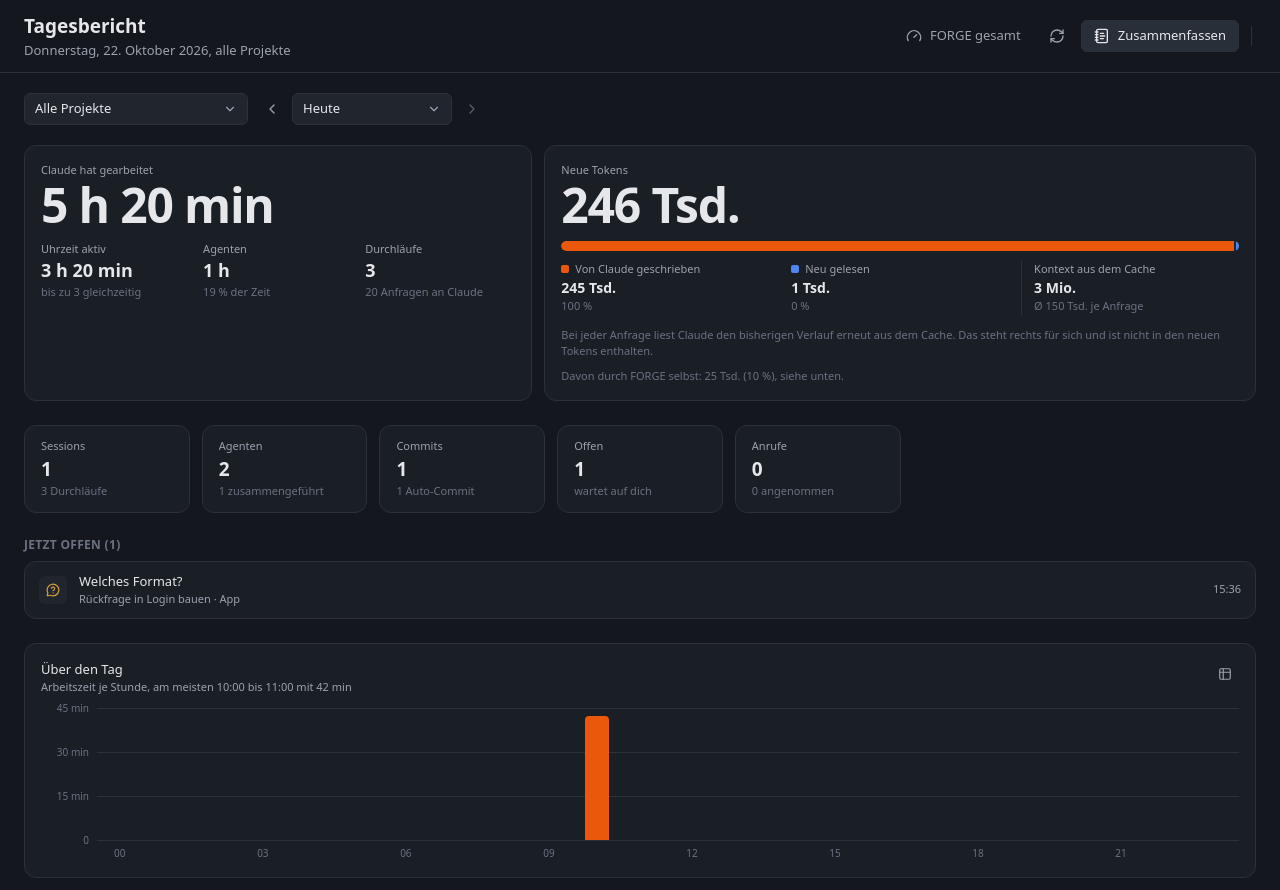
Test: daily report › writes a summary with Claude on request
The width and height of the screenshot is (1280, 890).
Step 1. Click the button "Zusammenfassen" → coordinates (1160, 36), box x1=1081 y1=20 x2=1239 y2=52
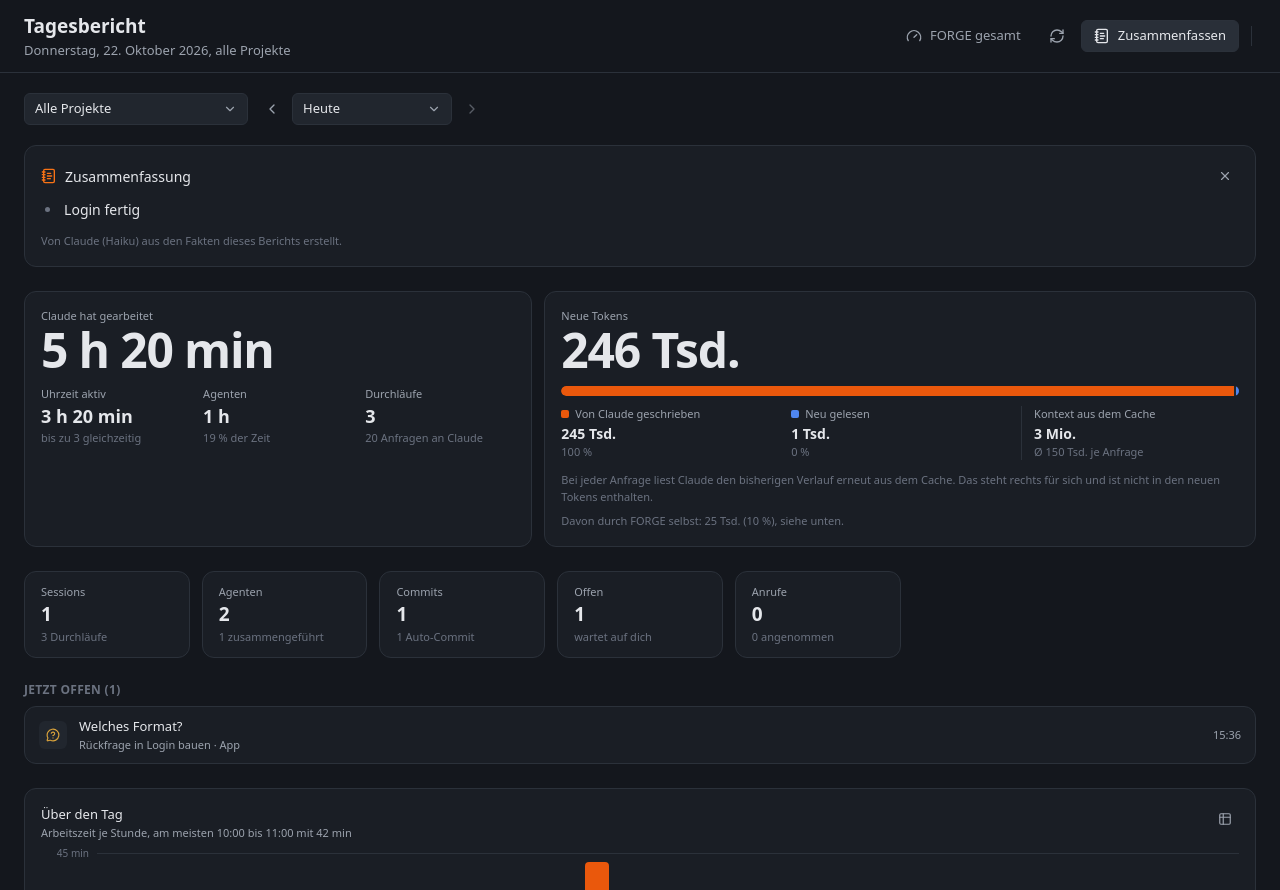
Check: the list item "Login fertig" is shown, box x1=64 y1=200 x2=140 y2=219
Check: the text "Von Claude (Haiku) aus den Fakten dieses Berichts erstellt." is shown, box x1=41 y1=233 x2=342 y2=248
